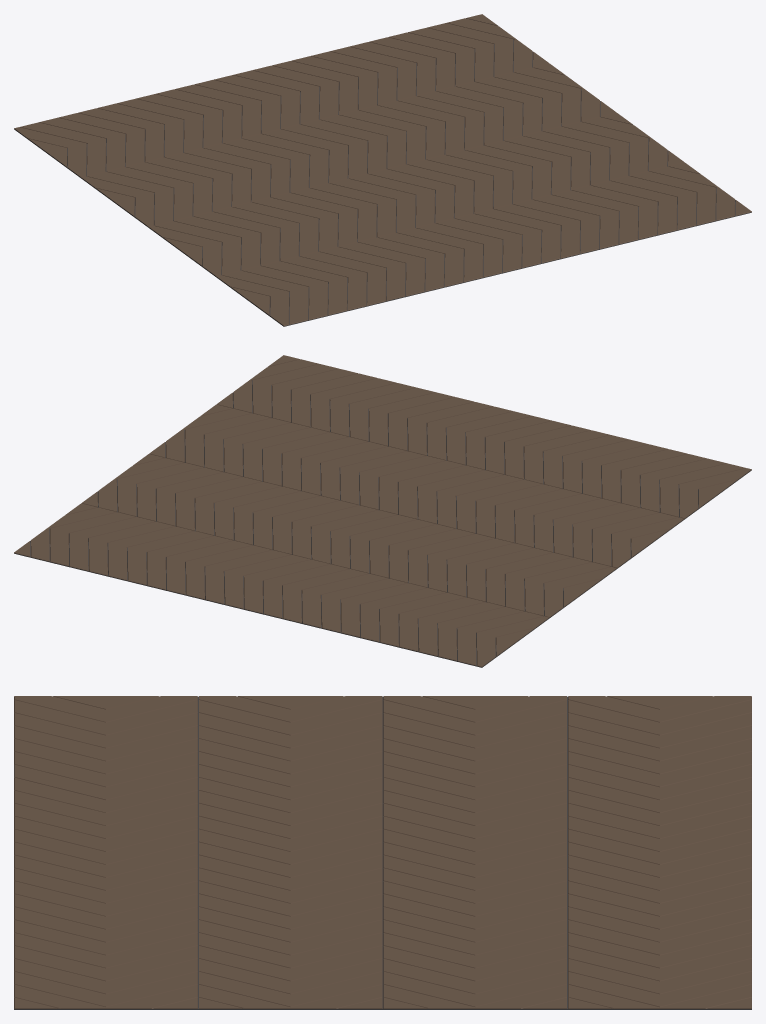
Rendered from Parquet_4.fbx.
3 views of the same model, one above another, from view 1: azimuth 30°, elevation 25°; view 2: azimuth 150°, elevation 25°; view 3: azimuth 270°, elevation 25° (orthographic). The views are drawn at different scales.
Parts seen in each view (by area): view 1: Parquet_4; view 2: Parquet_4; view 3: Parquet_4.
Boxes of the visible parts, x1,y1,x2,y2 form: Parquet_4: [14, 14, 751, 326]; Parquet_4: [14, 355, 751, 667]; Parquet_4: [14, 696, 751, 1009].
Bounding box in the file's own units: 489 × 489 × 1.19.
